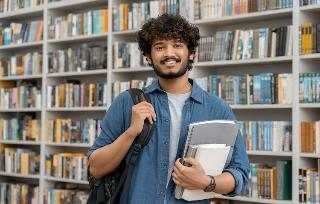person - v3 P: (88, 14, 235, 203)
